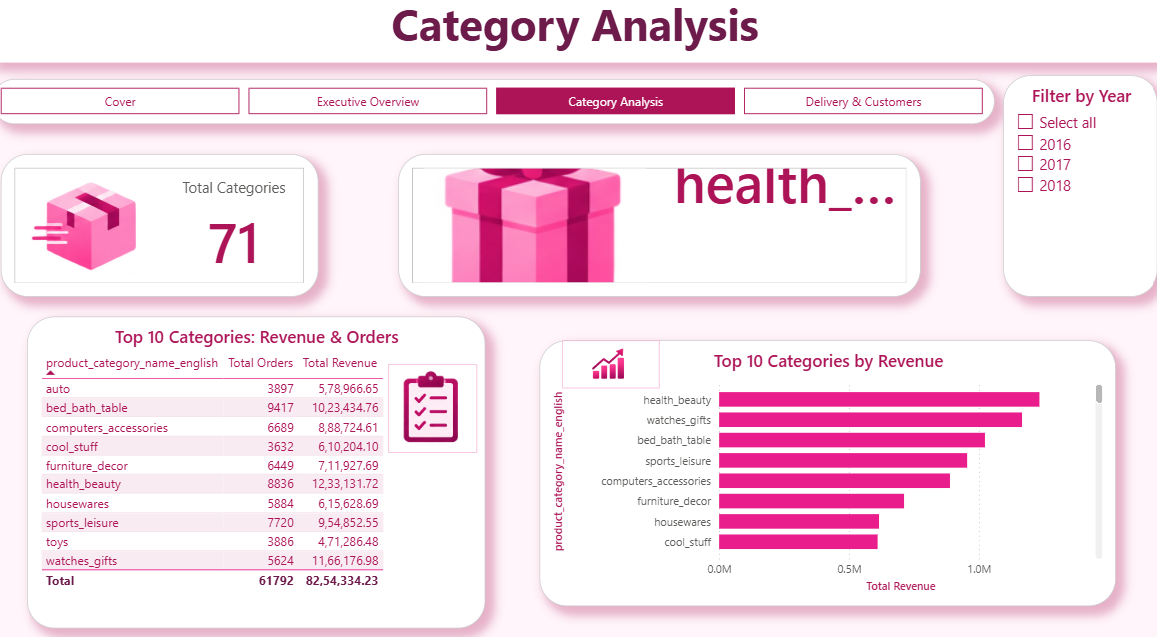

The page's visual inventory and layout, read from the dashboard file:
{"tool":"powerbi","page":{"name":"Category Analysis","canvas":[1280,720],"ordinal":2},"visuals":[{"type":"clusteredBarChart","title":"Top 10 Categories by Revenue","fields":{"Y":["Key Measures.Total Revenue"],"Category":["product_category_name_translation.product_category_name_english"]},"box":[601.1,385.2,633.2,291.8],"z":0},{"type":"tableEx","title":"Top 10 Categories: Revenue & Orders","fields":{"Values":["product_category_name_translation.product_category_name_english","Key Measures.Total Orders","Key Measures.Total Revenue"]},"box":[37.9,359.9,502.9,342.4],"z":1000},{"type":"cardVisual","fields":{"Data":["Key Measures.Total Categories"]},"box":[9.7,180.9,348.6,157.2],"z":2000},{"type":"cardVisual","fields":{"Data":["Key Measures.Top Category"]},"box":[446,180.9,573.4,157.2],"z":3000},{"type":"textbox","box":[0,0,1280.2,80.8],"z":4000},{"type":"pageNavigator","box":[0,98.2,1101,49.6],"z":5000},{"type":"listSlicer","title":"Filter by Year","fields":{"Values":["olist_orders_dataset.order_purchase_timestamp.Variation.Date Hierarchy.Year"]},"box":[1109.9,94.8,170.3,243.2],"z":6000},{"type":"image","box":[435.5,411.8,97.5,97.5],"z":7000},{"type":"image","box":[625.2,385.5,107.1,52.7],"z":8000}]}

Visuals, with their boxes in screenshot pixels (x1, y1, x2, y2), scaled from the page's 1280x720 canvas onto the 1157x637 screenshot:
"Top 10 Categories by Revenue" clusteredBarChart: box=[543, 341, 1116, 599]
"Top 10 Categories: Revenue & Orders" tableEx: box=[34, 318, 489, 621]
cardVisual - Key Measures.Total Categories: box=[9, 160, 324, 299]
cardVisual - Key Measures.Top Category: box=[403, 160, 921, 299]
textbox: box=[0, 0, 1156, 71]
pageNavigator: box=[0, 87, 995, 131]
"Filter by Year" listSlicer: box=[1003, 84, 1156, 299]
image: box=[394, 364, 482, 451]
image: box=[565, 341, 662, 388]
